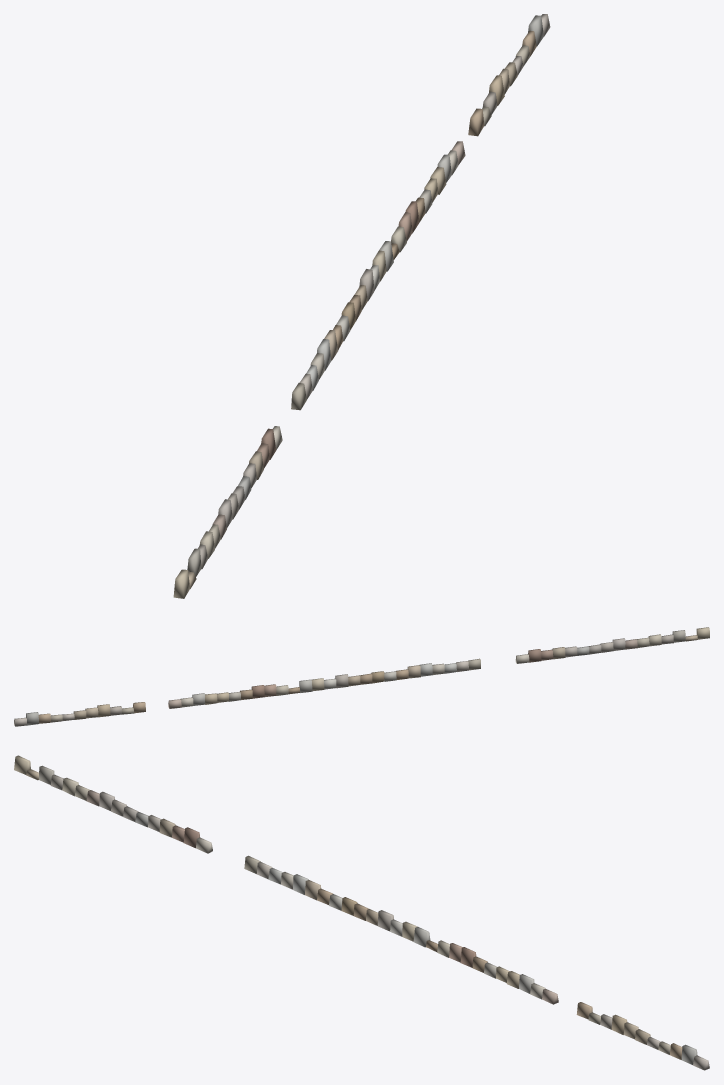
The model's file is farm_-23_-24_far.glb.
3 renders of one model, top to bottom at view 1: azimuth 30°, elevation 25°; view 2: azimuth 150°, elevation 25°; view 3: azimuth 270°, elevation 25°, orthographic. The views are drawn at different scales.
Visible parts, largest first — view 1: geometry_0; view 2: geometry_0; view 3: geometry_0.
Boxes of the visible parts, <box> form: geometry_0: <box>173,14,550,598</box>; geometry_0: <box>14,627,709,726</box>; geometry_0: <box>14,755,709,1070</box>.
Bounding box in the file's own units: 64.83 × 2.52 × 65.45.
